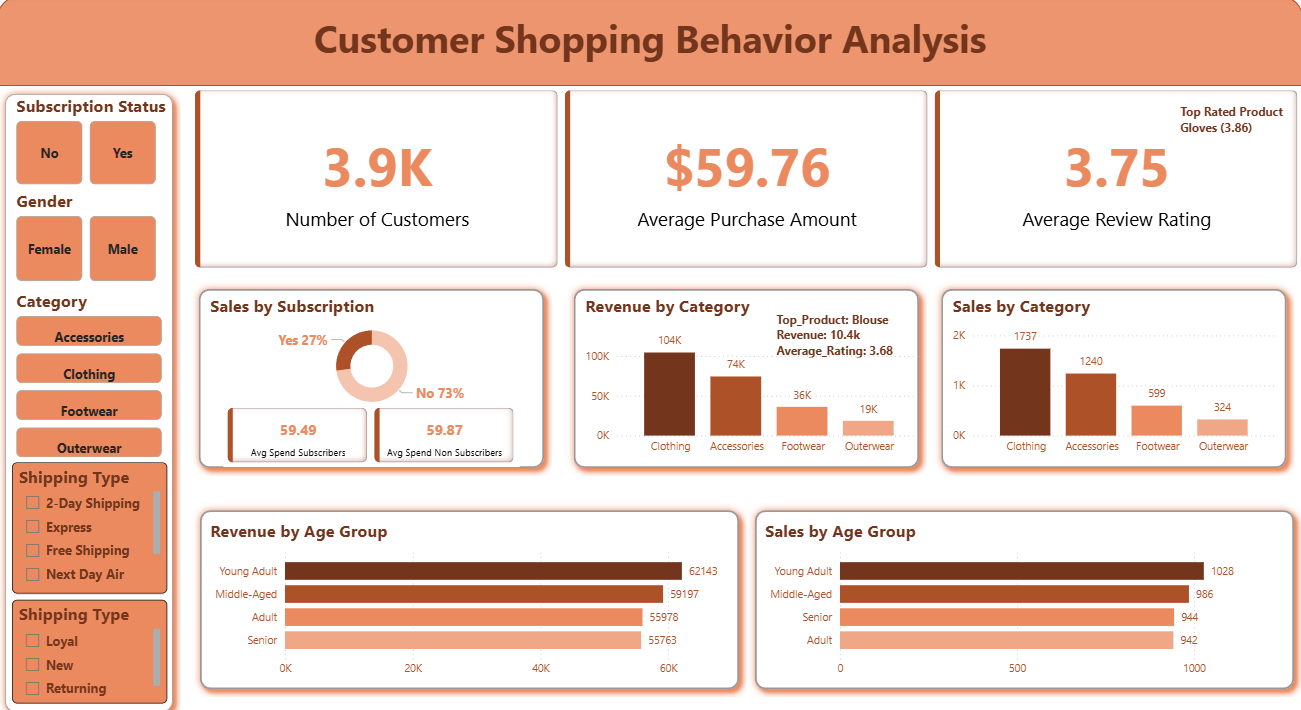

The dashboard page shown, as its layout file describes it:
{"tool":"powerbi","page":{"name":"Page 1","canvas":[1480,820],"ordinal":0},"visuals":[{"type":"shape","box":[644.6,323,409.4,221],"z":0},{"type":"cardVisual","fields":{"Data":["customer_behavior customer.Number of Customers","customer_behavior customer.Average Purchase Amount","customer_behavior customer.Average Review Rating"]},"box":[219.6,102,1260.9,211.1],"z":1000},{"type":"shape","box":[0,0,1480.5,102],"z":2000},{"type":"textbox","title":"Customer Shopping Behavior Analysis","box":[0,18.4,1480.5,63.8],"z":3000},{"type":"shape","box":[219.6,323,409.4,221],"z":4000},{"type":"donutChart","title":"Sales by Subscription","fields":{"Y":["CountNonNull(customer_behavior customer.customer_id)"],"Category":["customer_behavior customer.subscription_status"]},"box":[236.6,338.6,376.9,137.4],"z":5000},{"type":"clusteredColumnChart","title":"Revenue by Category","fields":{"Category":["customer_behavior customer.category"],"Y":["Sum(customer_behavior customer.purchase_amount)"]},"box":[661.6,338.6,392.4,189.8],"z":6000},{"type":"shape","box":[1061.1,323,409.4,221],"z":7000},{"type":"clusteredColumnChart","title":"Sales by Category","fields":{"Category":["customer_behavior customer.category"],"Y":["customer_behavior customer.Number of Customers"]},"box":[1078.1,338.6,376.9,189.8],"z":8000},{"type":"shape","box":[0,102,208.3,718.3],"z":9000},{"type":"advancedSlicerVisual","fields":{"Values":["customer_behavior customer.subscription_status"]},"box":[17,111.9,252.2,107.7],"z":10000},{"type":"advancedSlicerVisual","fields":{"Values":["customer_behavior customer.gender"]},"box":[17,219.6,252.2,109.1],"z":11000},{"type":"advancedSlicerVisual","fields":{"Values":["customer_behavior customer.category"]},"box":[17,332.9,175.7,195.5],"z":12000},{"type":"slicer","title":"Shipping Type","fields":{"Values":["customer_behavior customer.shipping_type"]},"box":[17,528.4,175.7,148.8],"z":13000},{"type":"shape","box":[221,573.8,629,221],"z":14000},{"type":"shape","box":[850,573.8,629,221],"z":15000},{"type":"clusteredBarChart","title":"Revenue by Age Group","fields":{"Category":["customer_behavior customer.age_group"],"Y":["Sum(customer_behavior customer.purchase_amount)"]},"box":[236.6,593.6,596.4,187],"z":16000},{"type":"clusteredBarChart","title":"Sales by Age Group","fields":{"Category":["customer_behavior customer.age_group"],"Y":["customer_behavior customer.Number of Customers"]},"box":[865.6,593.6,589.4,187],"z":17000},{"type":"cardVisual","fields":{"Data":["customer_behavior customer.Avg Spend Subscribers","customer_behavior customer.Avg Spend Non Subscribers"]},"box":[256.4,461.9,335.8,72.3],"z":18000},{"type":"textbox","title":"Top_Product: Blouse Revenue: 10.4k  Average_Rating: 3.68 ","box":[878.4,357,160.1,62.3],"z":19000},{"type":"slicer","title":"Customer Segment","fields":{"Values":["customer_behavior customer.Customer Segment"]},"box":[17,684.3,175.7,117.6],"z":20000},{"type":"textbox","title":"Top Rated Product Gloves (3.86)","box":[1336,121.8,134.6,43.9],"z":20001}]}

Visuals, with their boxes in screenshot pixels (x1, y1, x2, y2), scaled from the page's 1480x820 canvas onto the 1301x710 screenshot:
shape: (567, 280, 927, 471)
cardVisual - customer_behavior customer.Number of Customers x customer_behavior customer.Average Purchase Amount: (193, 88, 1300, 271)
shape: (0, 0, 1300, 88)
"Customer Shopping Behavior Analysis" textbox: (0, 16, 1300, 71)
shape: (193, 280, 553, 471)
"Sales by Subscription" donutChart: (208, 293, 539, 412)
"Revenue by Category" clusteredColumnChart: (582, 293, 927, 458)
shape: (933, 280, 1293, 471)
"Sales by Category" clusteredColumnChart: (948, 293, 1279, 458)
shape: (0, 88, 183, 709)
advancedSlicerVisual - customer_behavior customer.subscription_status: (15, 97, 237, 190)
advancedSlicerVisual - customer_behavior customer.gender: (15, 190, 237, 285)
advancedSlicerVisual - customer_behavior customer.category: (15, 288, 169, 458)
"Shipping Type" slicer: (15, 458, 169, 586)
shape: (194, 497, 747, 688)
shape: (747, 497, 1300, 688)
"Revenue by Age Group" clusteredBarChart: (208, 514, 732, 676)
"Sales by Age Group" clusteredBarChart: (761, 514, 1279, 676)
cardVisual - customer_behavior customer.Avg Spend Subscribers x customer_behavior customer.Avg Spend Non Subscribers: (225, 400, 521, 463)
"Top_Product: Blouse Revenue: 10.4k  Average_Rating: 3.68 " textbox: (772, 309, 913, 363)
"Customer Segment" slicer: (15, 593, 169, 694)
"Top Rated Product Gloves (3.86)" textbox: (1174, 105, 1293, 143)
